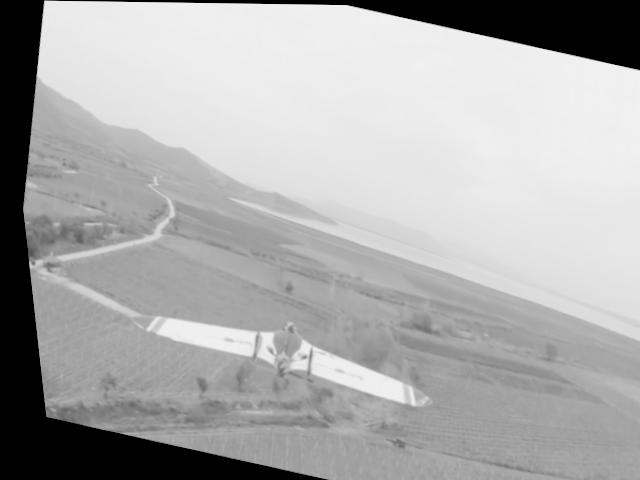hedef: (111, 286, 433, 418)
